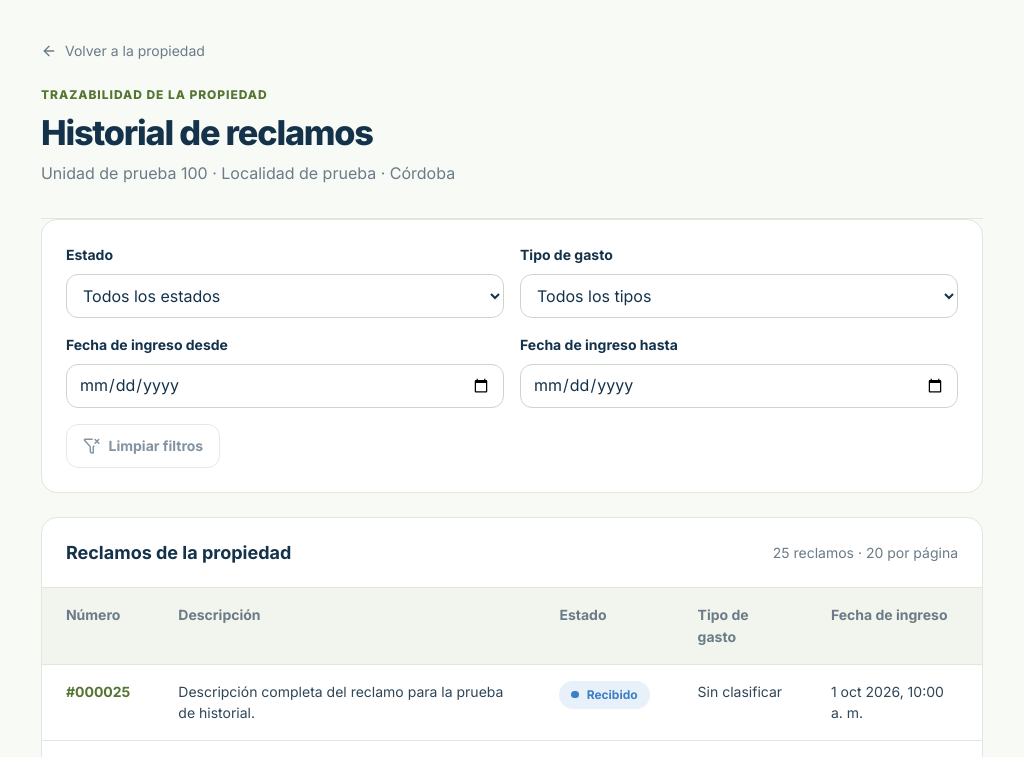
historial por propiedad › combina filtros, reinicia la página y solicita otra página conservándolos
expect the table is shown: met, box [42, 588, 982, 740]
Step 1. Select "Resuelto" in the dropdown labelled "Estado" → (285, 296), box [66, 274, 504, 318]
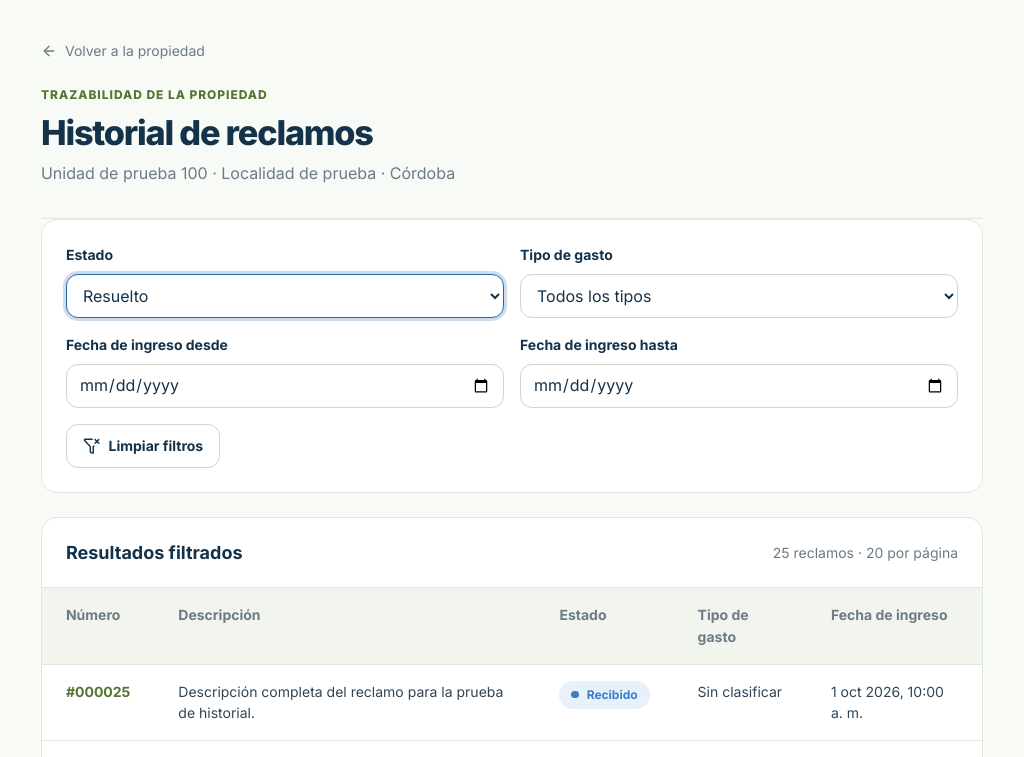
expect the table is shown: met, box [42, 588, 982, 740]
Step 2. Select "Ordinario" in the dropdown labelled "Tipo de gasto" → (739, 296), box [520, 274, 958, 318]
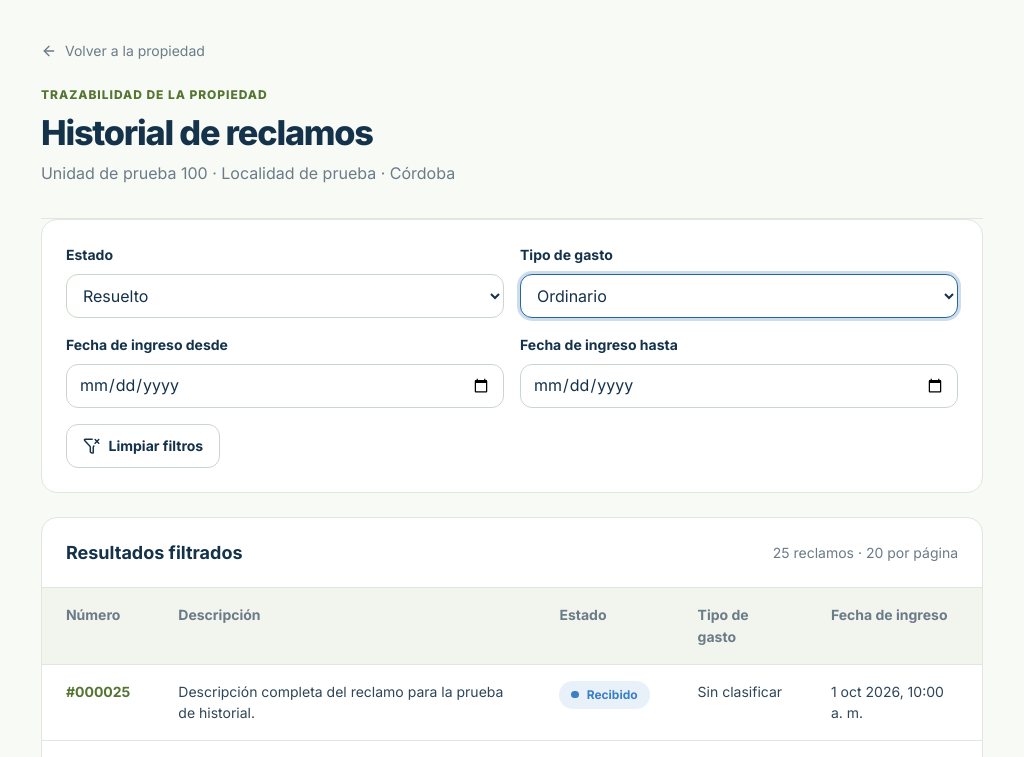
expect the table is shown: met, box [42, 588, 982, 740]
Step 3. Type "2026-10-01" into the date field labelled "Fecha de ingreso desde" → (285, 386), box [66, 364, 504, 408]
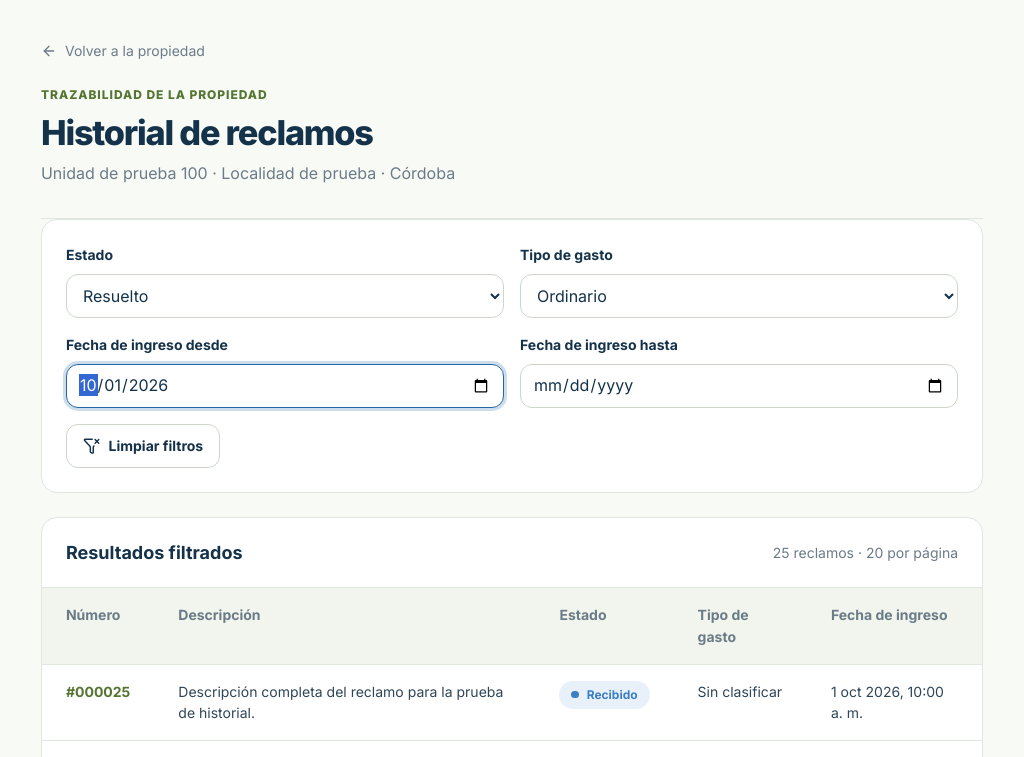
Step 4. Type "2026-10-02" into the date field labelled "Fecha de ingreso hasta" → (739, 386), box [520, 364, 958, 408]
(page scrolled)
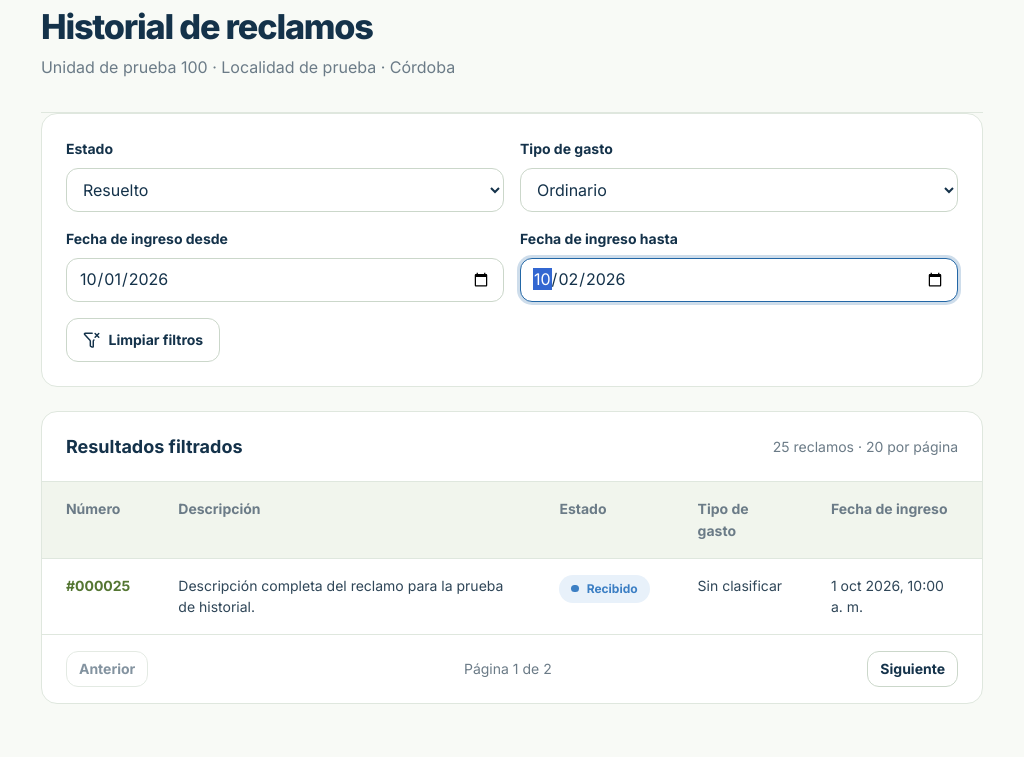
expect the table is shown: met, box [42, 482, 982, 634]
Step 5. Click the button "Siguiente" → (913, 669), box [867, 651, 958, 687]
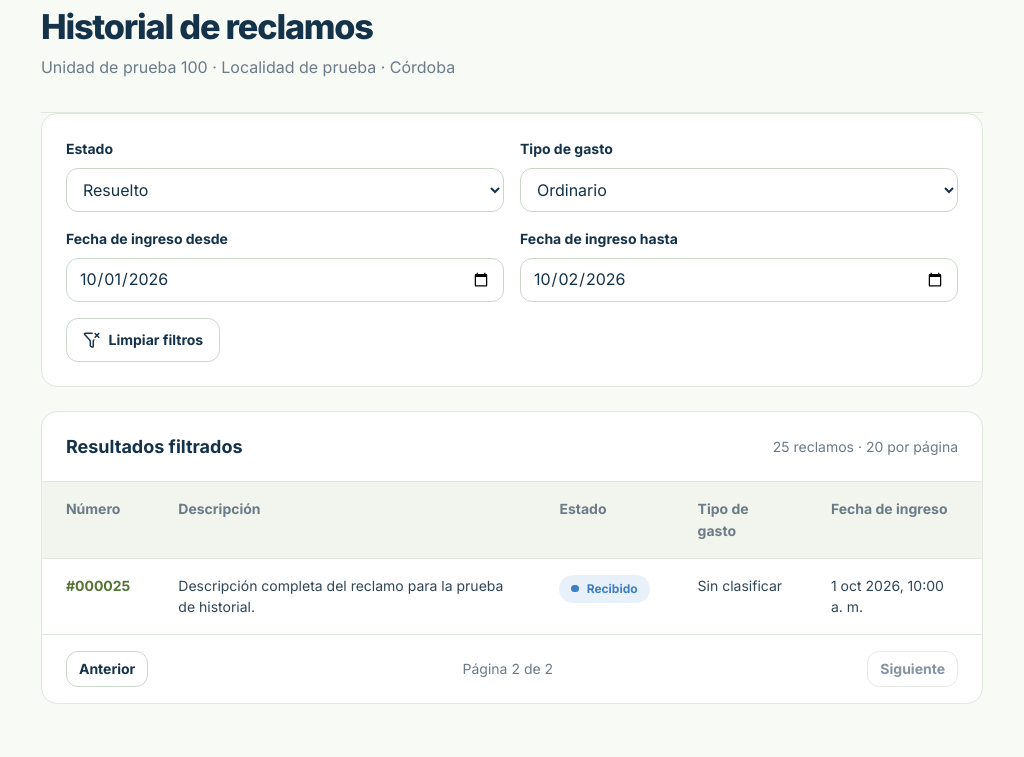
expect the text "Página 2 de 2" is shown: met, box [462, 658, 553, 680]
expect the button "Siguiente" is disabled: met, box [867, 651, 958, 687]
